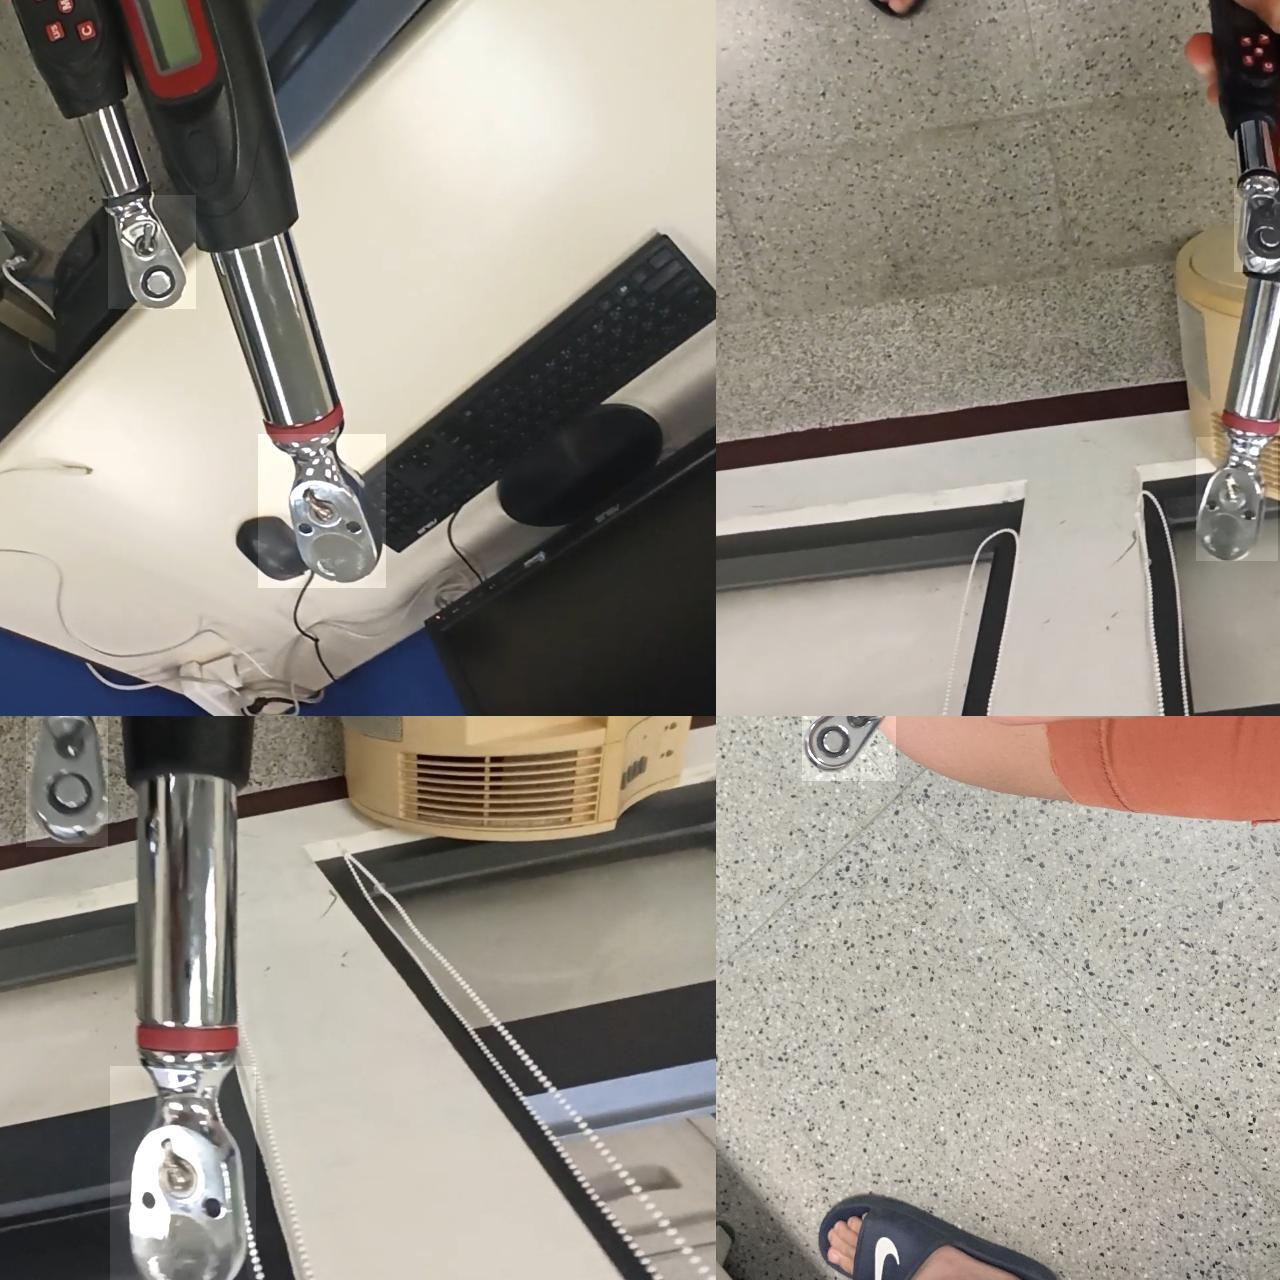Tool: (110, 1065, 256, 1280), (258, 434, 386, 588), (26, 716, 108, 847), (1196, 437, 1278, 561), (108, 195, 196, 309), (802, 716, 896, 781), (1234, 188, 1280, 272)
